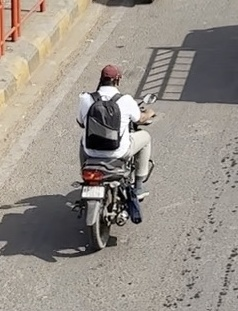BikeWithRider: (64, 59, 161, 253)
NoHelmet: (92, 60, 127, 93)
